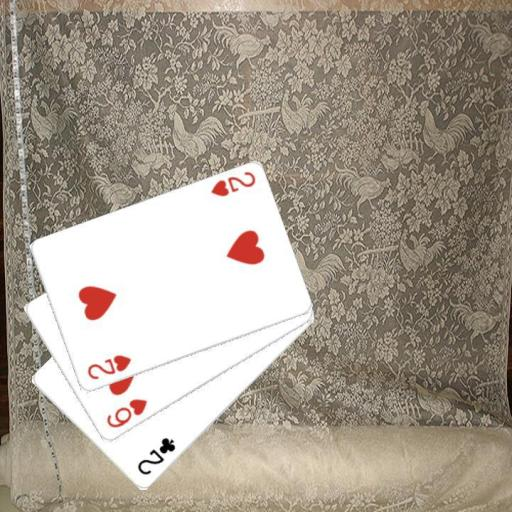2C: (134, 435, 177, 477)
2H: (207, 169, 257, 199), (84, 352, 133, 382)
6H: (103, 396, 149, 430)
